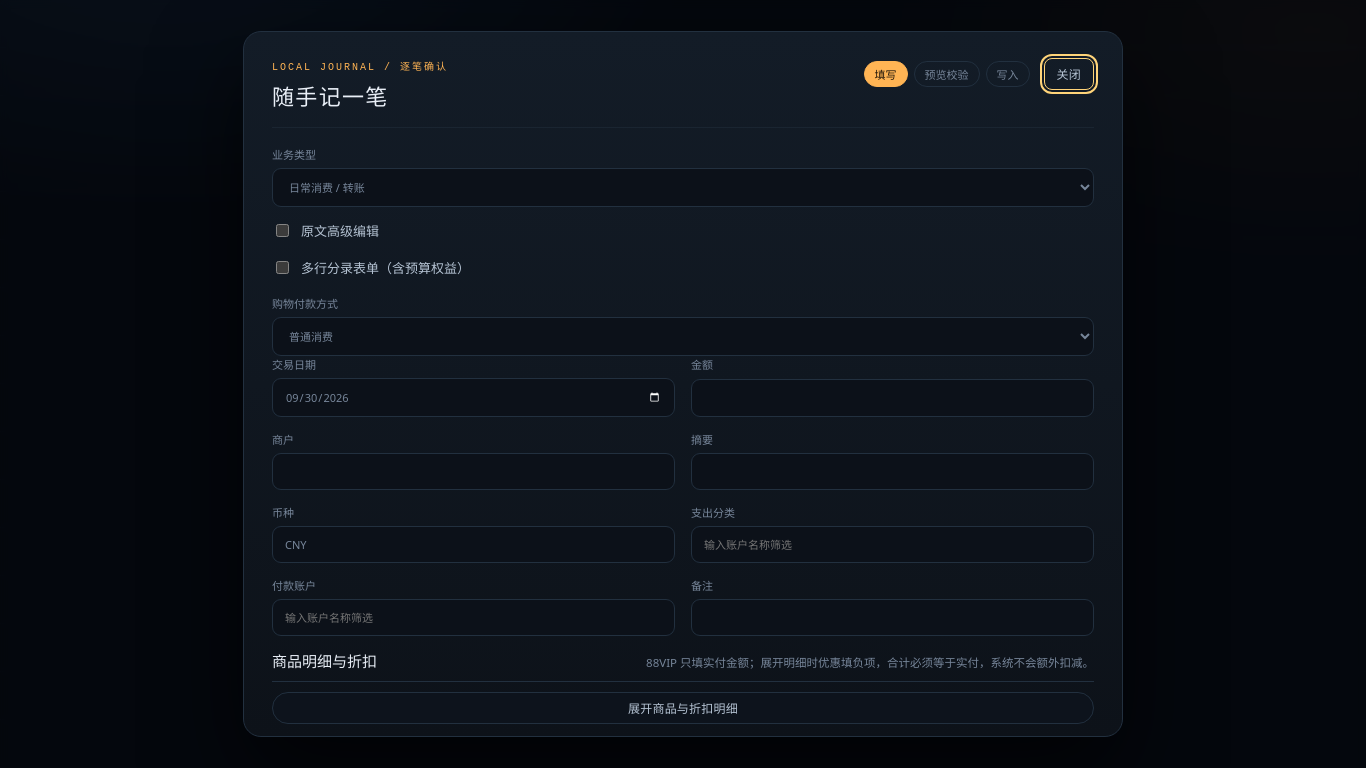
Test: 普通记一笔添加商品后自动保存为可收货订单
In the field labelled "金额": (892, 398) x1=691 y1=379 x2=1094 y2=417, type "12.30"
In the dropdown labelled "商户": (474, 471) x1=272 y1=453 x2=675 y2=490, type "超市"
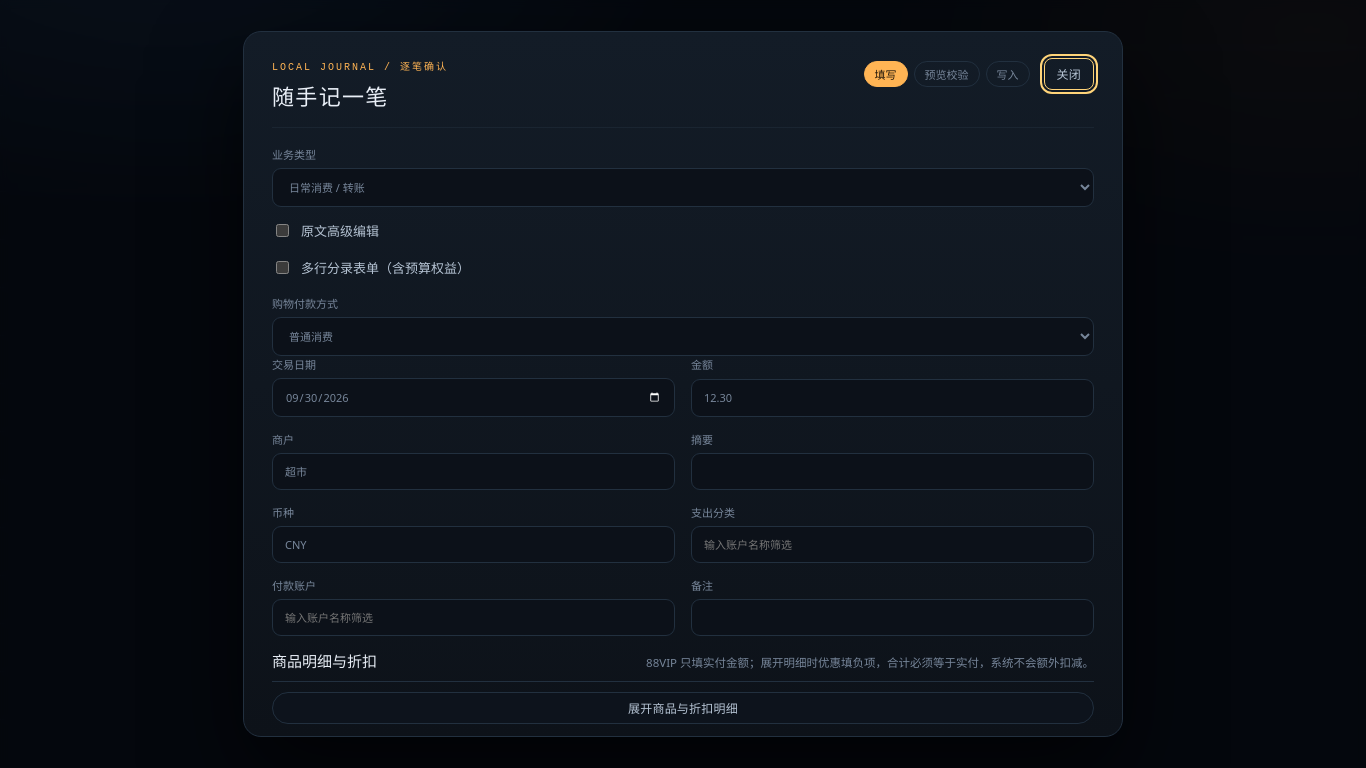
In the dropdown labelled "支出分类": (892, 544) x1=691 y1=526 x2=1094 y2=563, type "Expenses:Food"
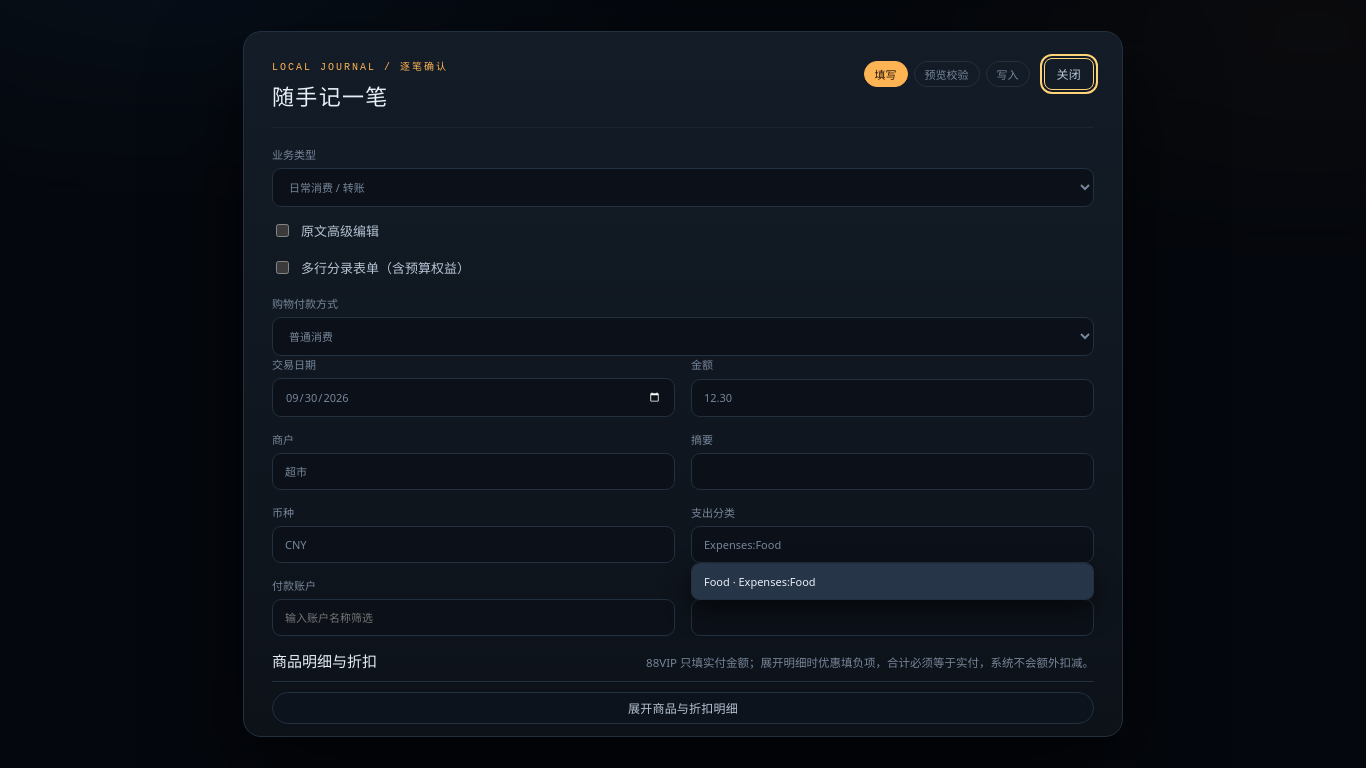
In the dropdown labelled "付款账户": (474, 617) x1=272 y1=599 x2=675 y2=636, type "Assets:Cash"
(page scrolled)
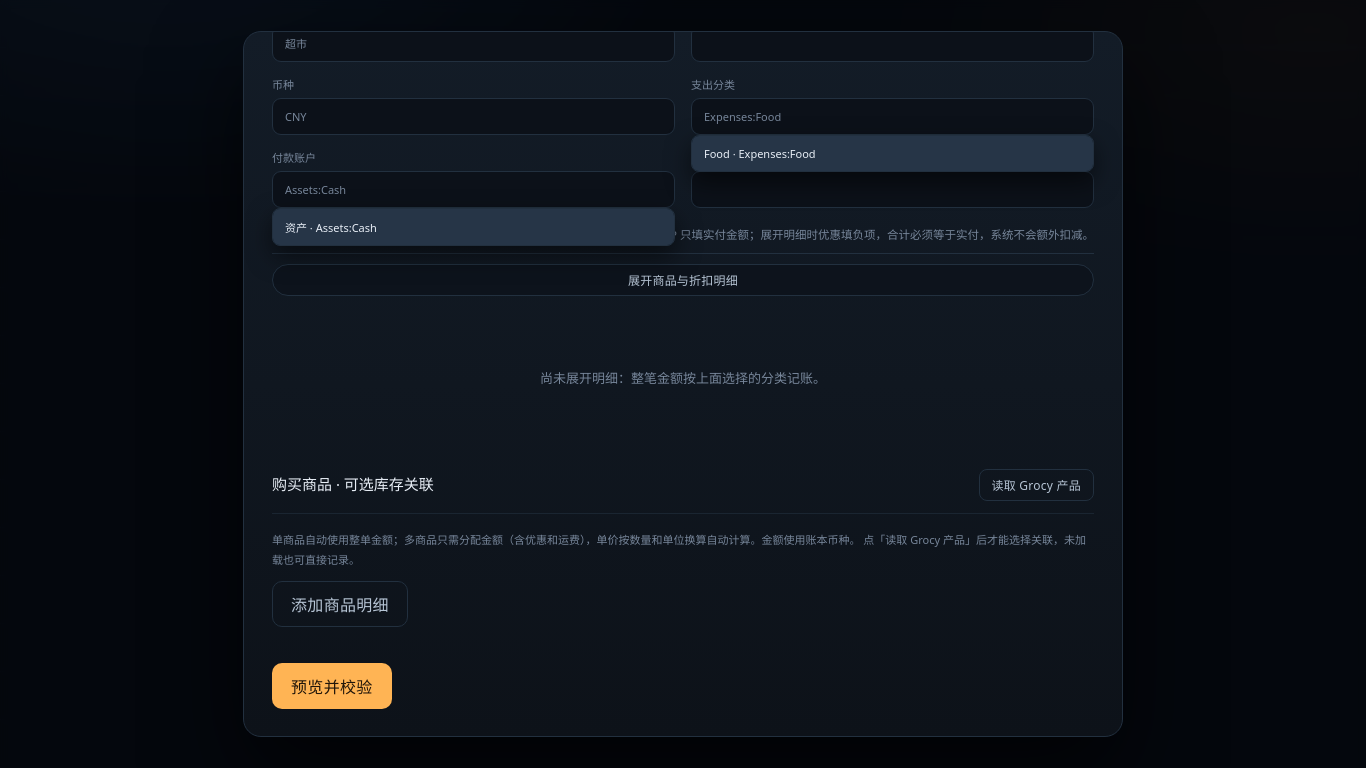
Click the button "添加商品明细": click(340, 604) x1=272 y1=581 x2=408 y2=627
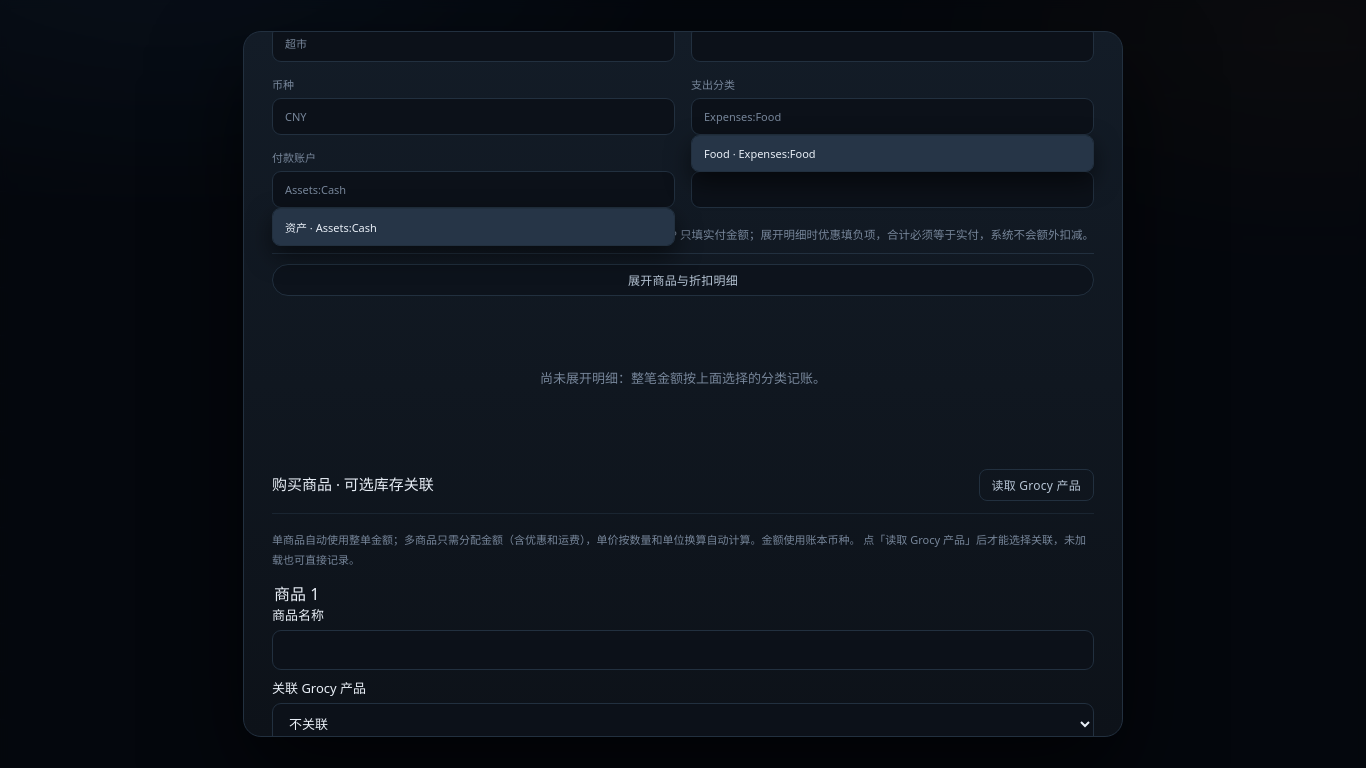
In the field labelled "商品名称": (683, 650) x1=272 y1=630 x2=1094 y2=670, type "洗发水"
(page scrolled)
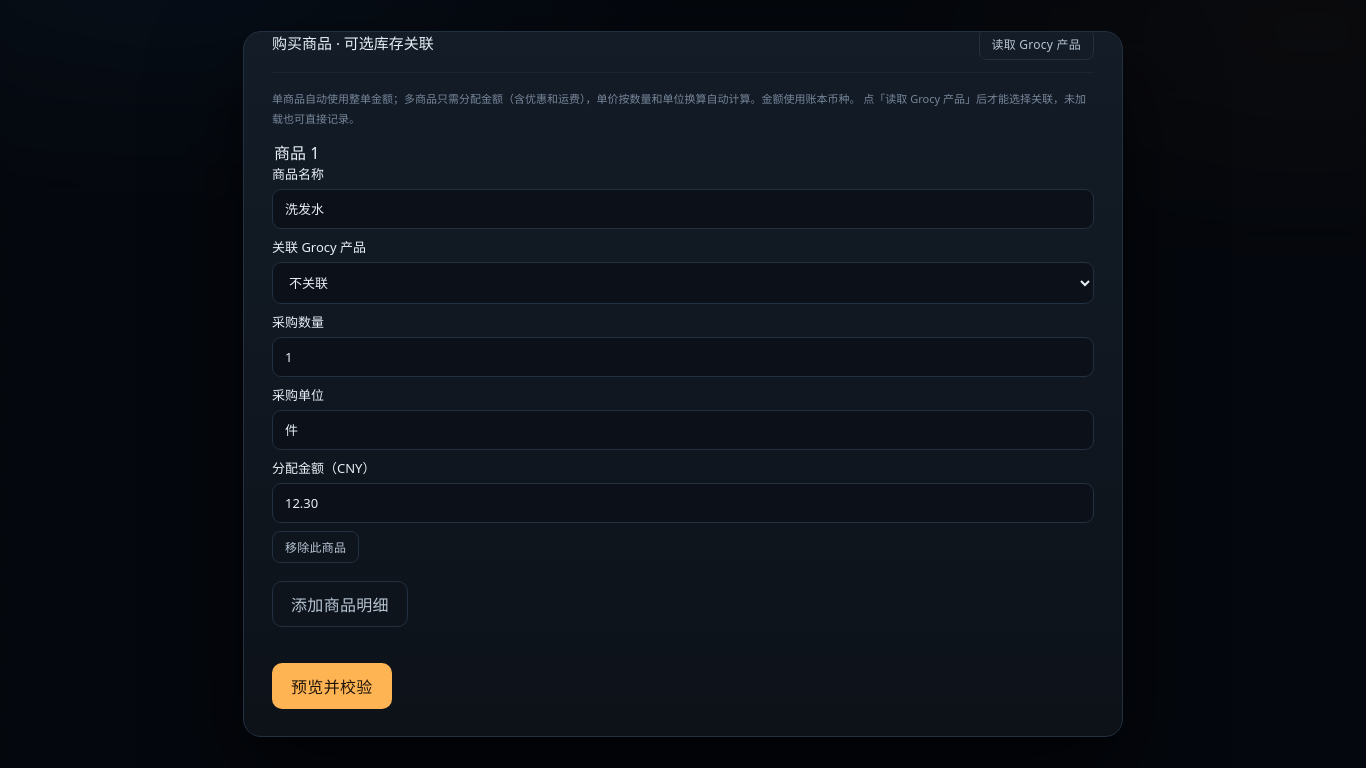
Now the dropdown labelled "关联 Grocy 产品" is shown, box x1=272 y1=262 x2=1094 y2=304
Click the button "预览并校验": click(332, 686) x1=272 y1=663 x2=392 y2=709
(page scrolled)
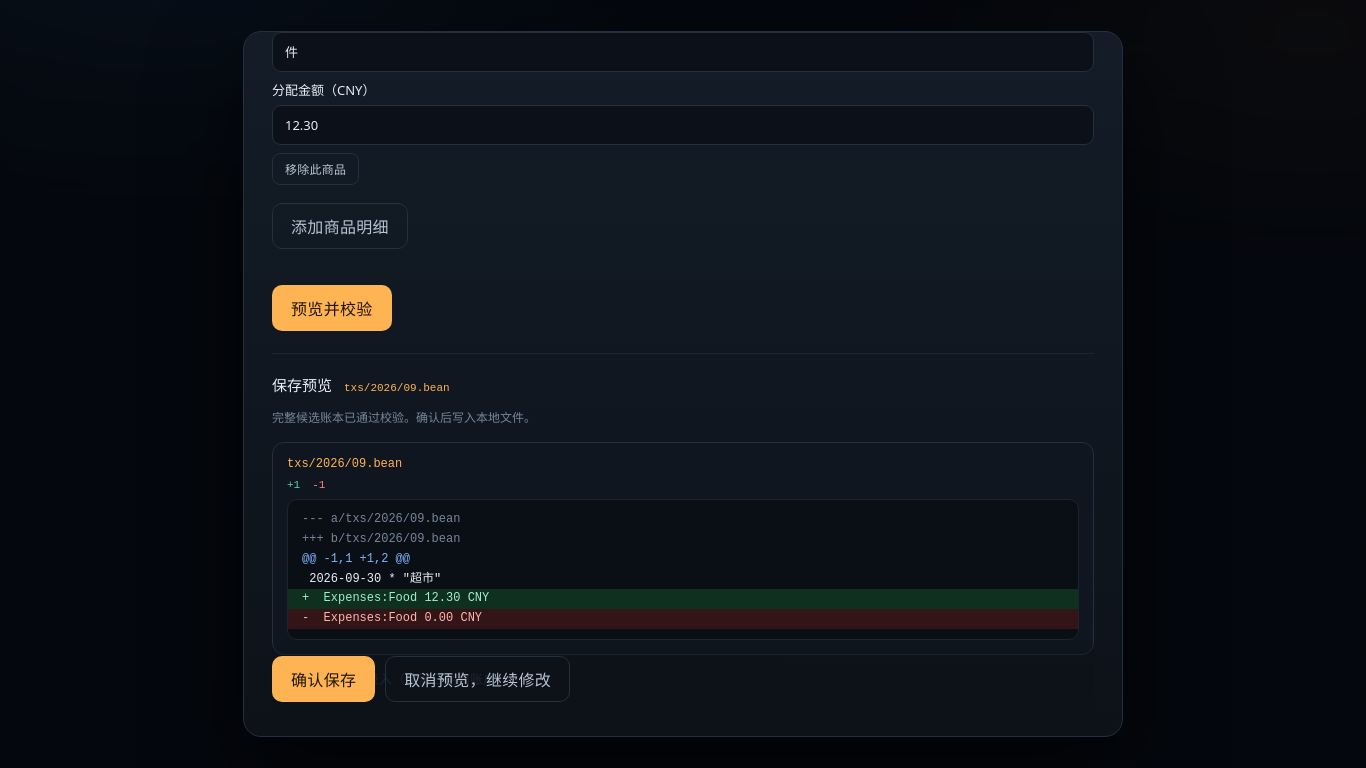
Now the heading "保存预览" is shown, box x1=272 y1=374 x2=332 y2=395
